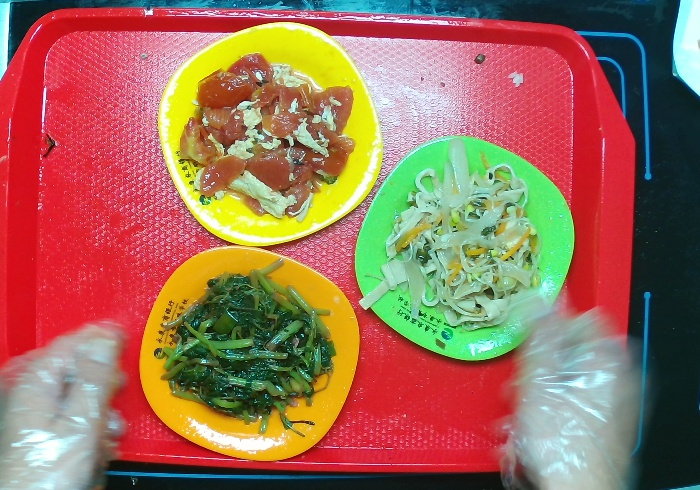YKMZ-Huang_Se_Fang_Die: (156, 20, 384, 247)
YKMZ-Ju_Se_Fang_Die: (138, 244, 361, 462)
YKMZ-Lv_Se_Fang_Die: (353, 134, 577, 362)
